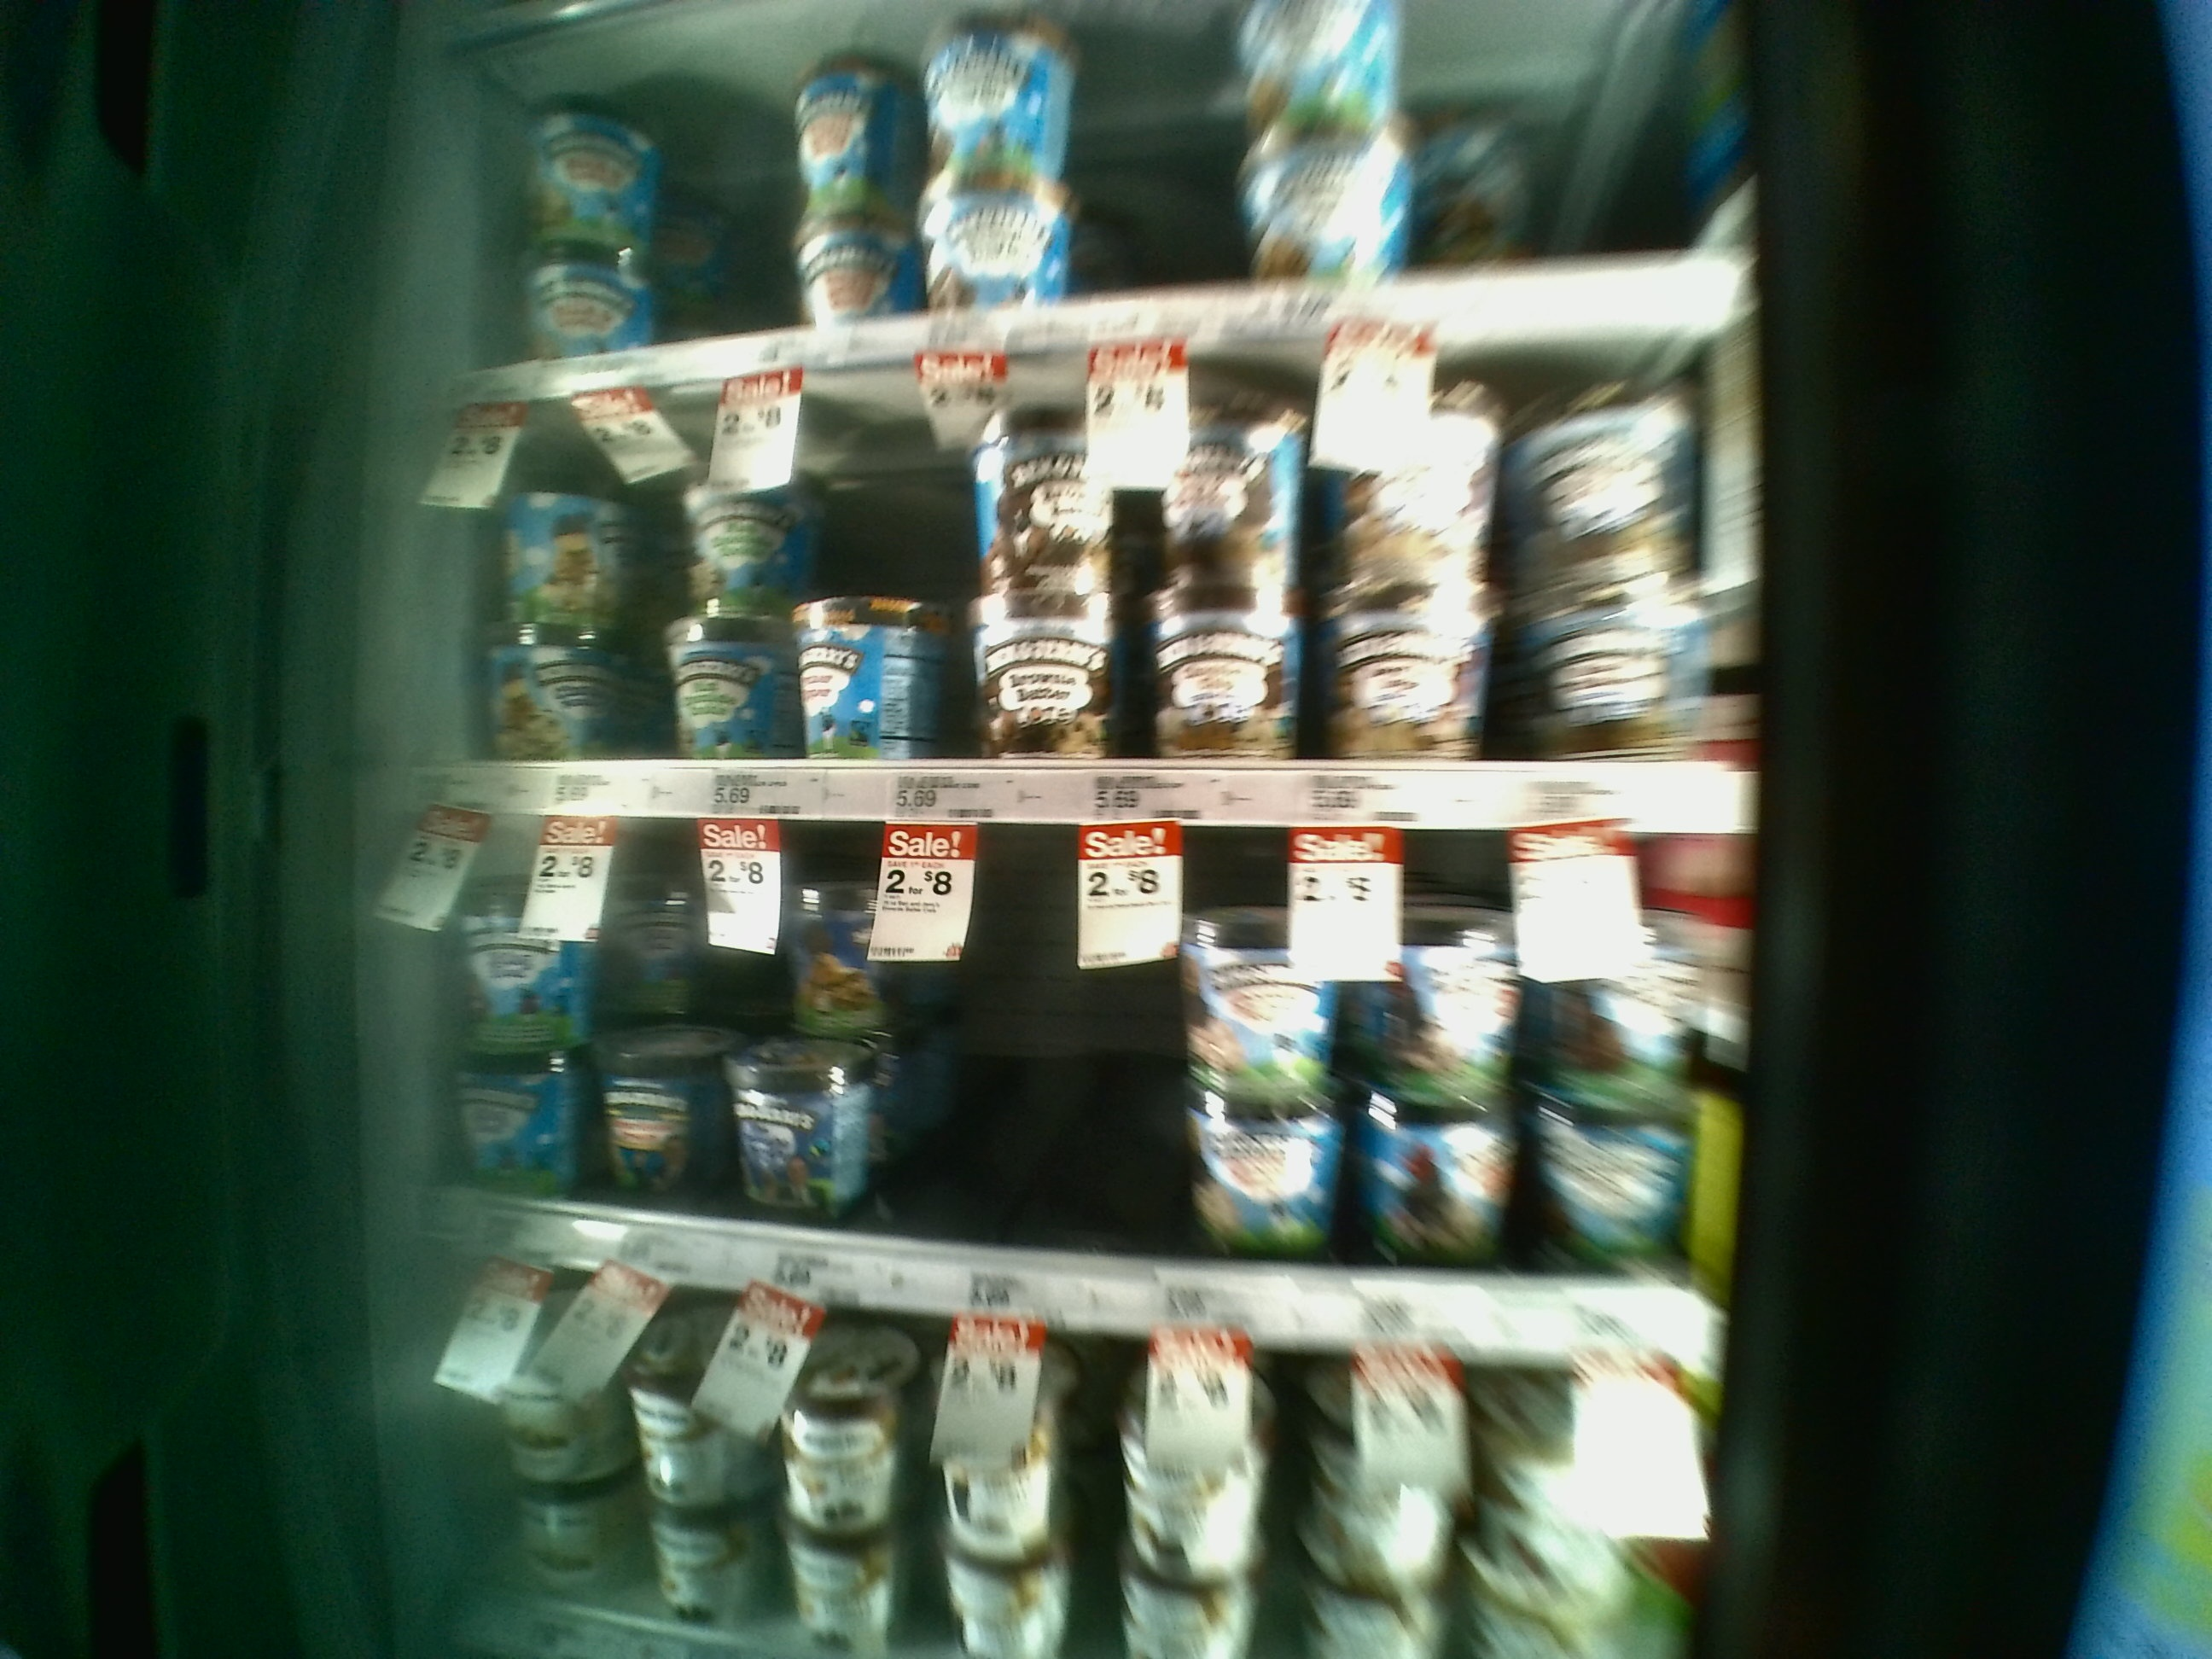shelf: (446, 814, 1742, 1359), (441, 324, 1759, 828)
